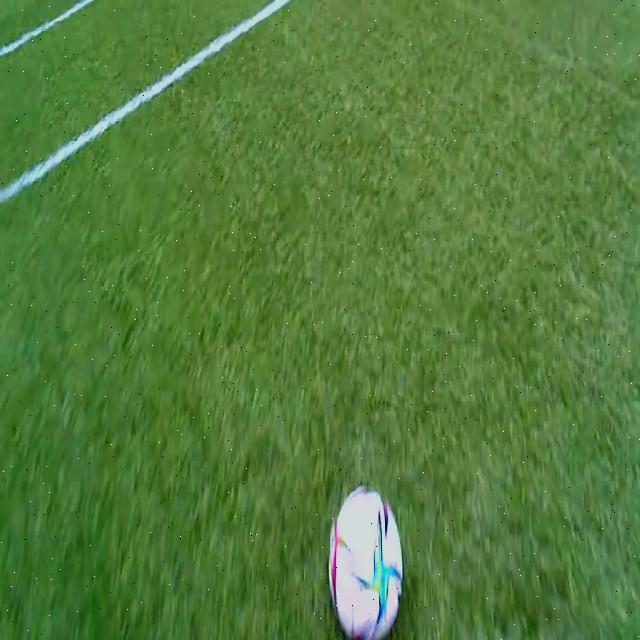ball: (328, 487, 404, 640)
